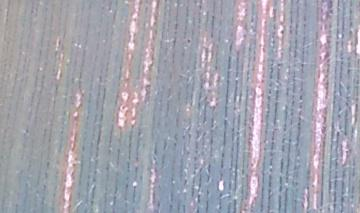tarspot: (184, 36, 194, 48), (278, 27, 286, 38)
